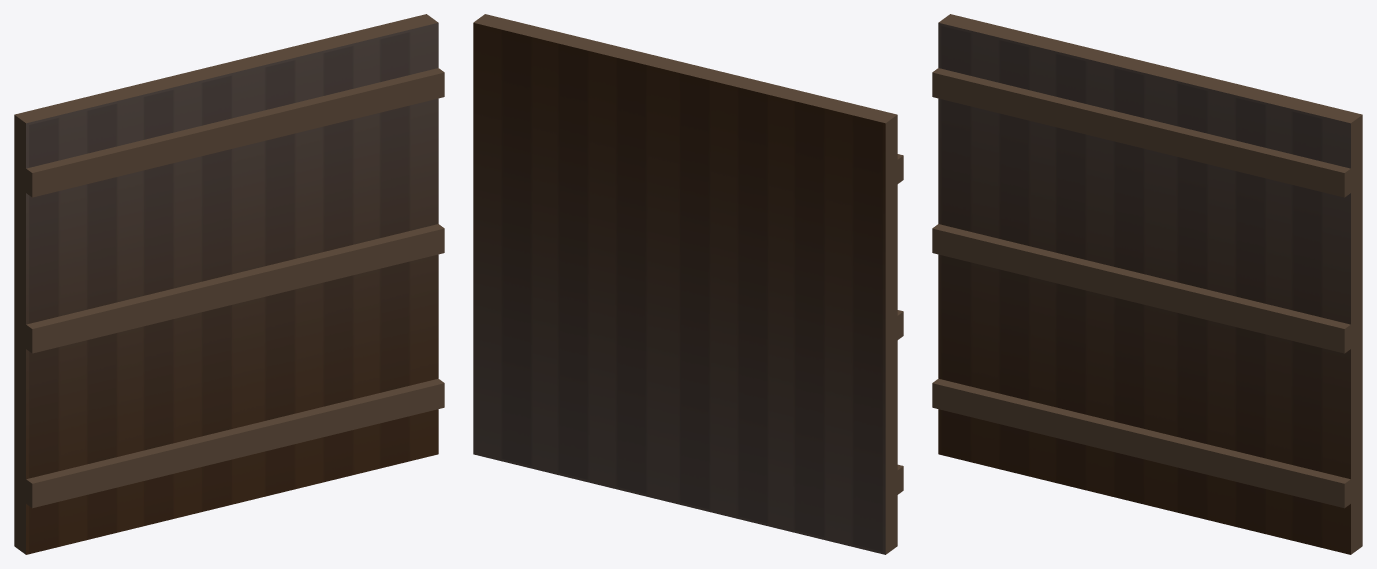
The model's file is Enviroment_Wall_02.fbx.
The picture shows the model from 3 angles, left to right: view 1: azimuth 30°, elevation 25°; view 2: azimuth 150°, elevation 25°; view 3: azimuth 330°, elevation 25°; orthographic projection.
Parts seen in each view (by area): view 1: Environment_Wall_02; view 2: Environment_Wall_02; view 3: Environment_Wall_02.
Part boxes in pixels (x1,y1,x2,y2): Environment_Wall_02: (14,14,444,554); Environment_Wall_02: (473,14,903,554); Environment_Wall_02: (932,14,1362,554).
Size of the model in its own units: 200 by 200 by 15.19.
